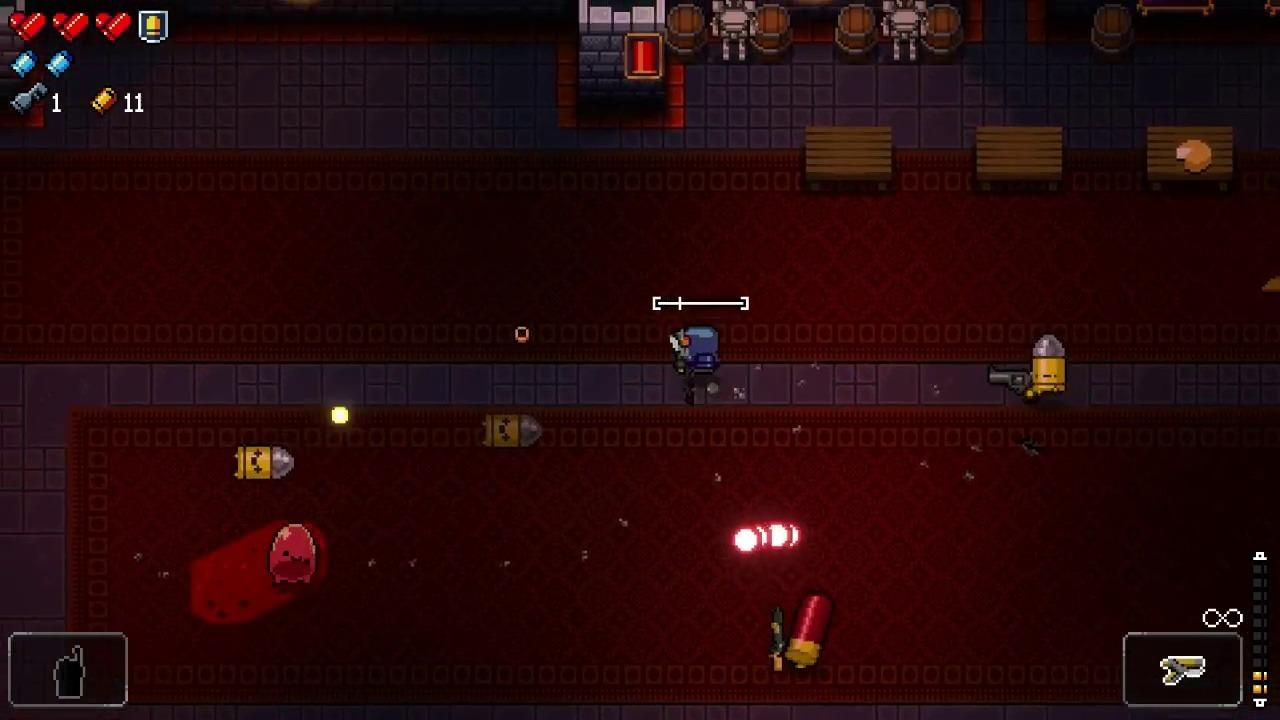blobulon_l: (268, 523, 317, 583)
bullet: (732, 526, 760, 555), (766, 521, 791, 550)
bullet_kin: (1033, 334, 1067, 395)
dead_bullet_kin: (484, 413, 545, 446), (237, 446, 295, 479)
player: (684, 327, 719, 376)
red_shotgun_kin: (786, 592, 833, 667)
table: (977, 125, 1062, 193), (1147, 126, 1234, 190), (805, 128, 892, 191)
